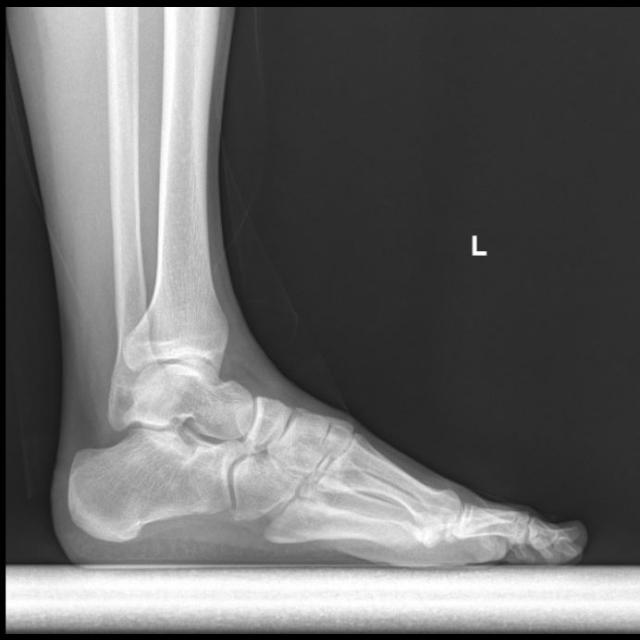a: (69, 426, 245, 540)
b: (245, 397, 292, 453)
c: (317, 435, 463, 547)
